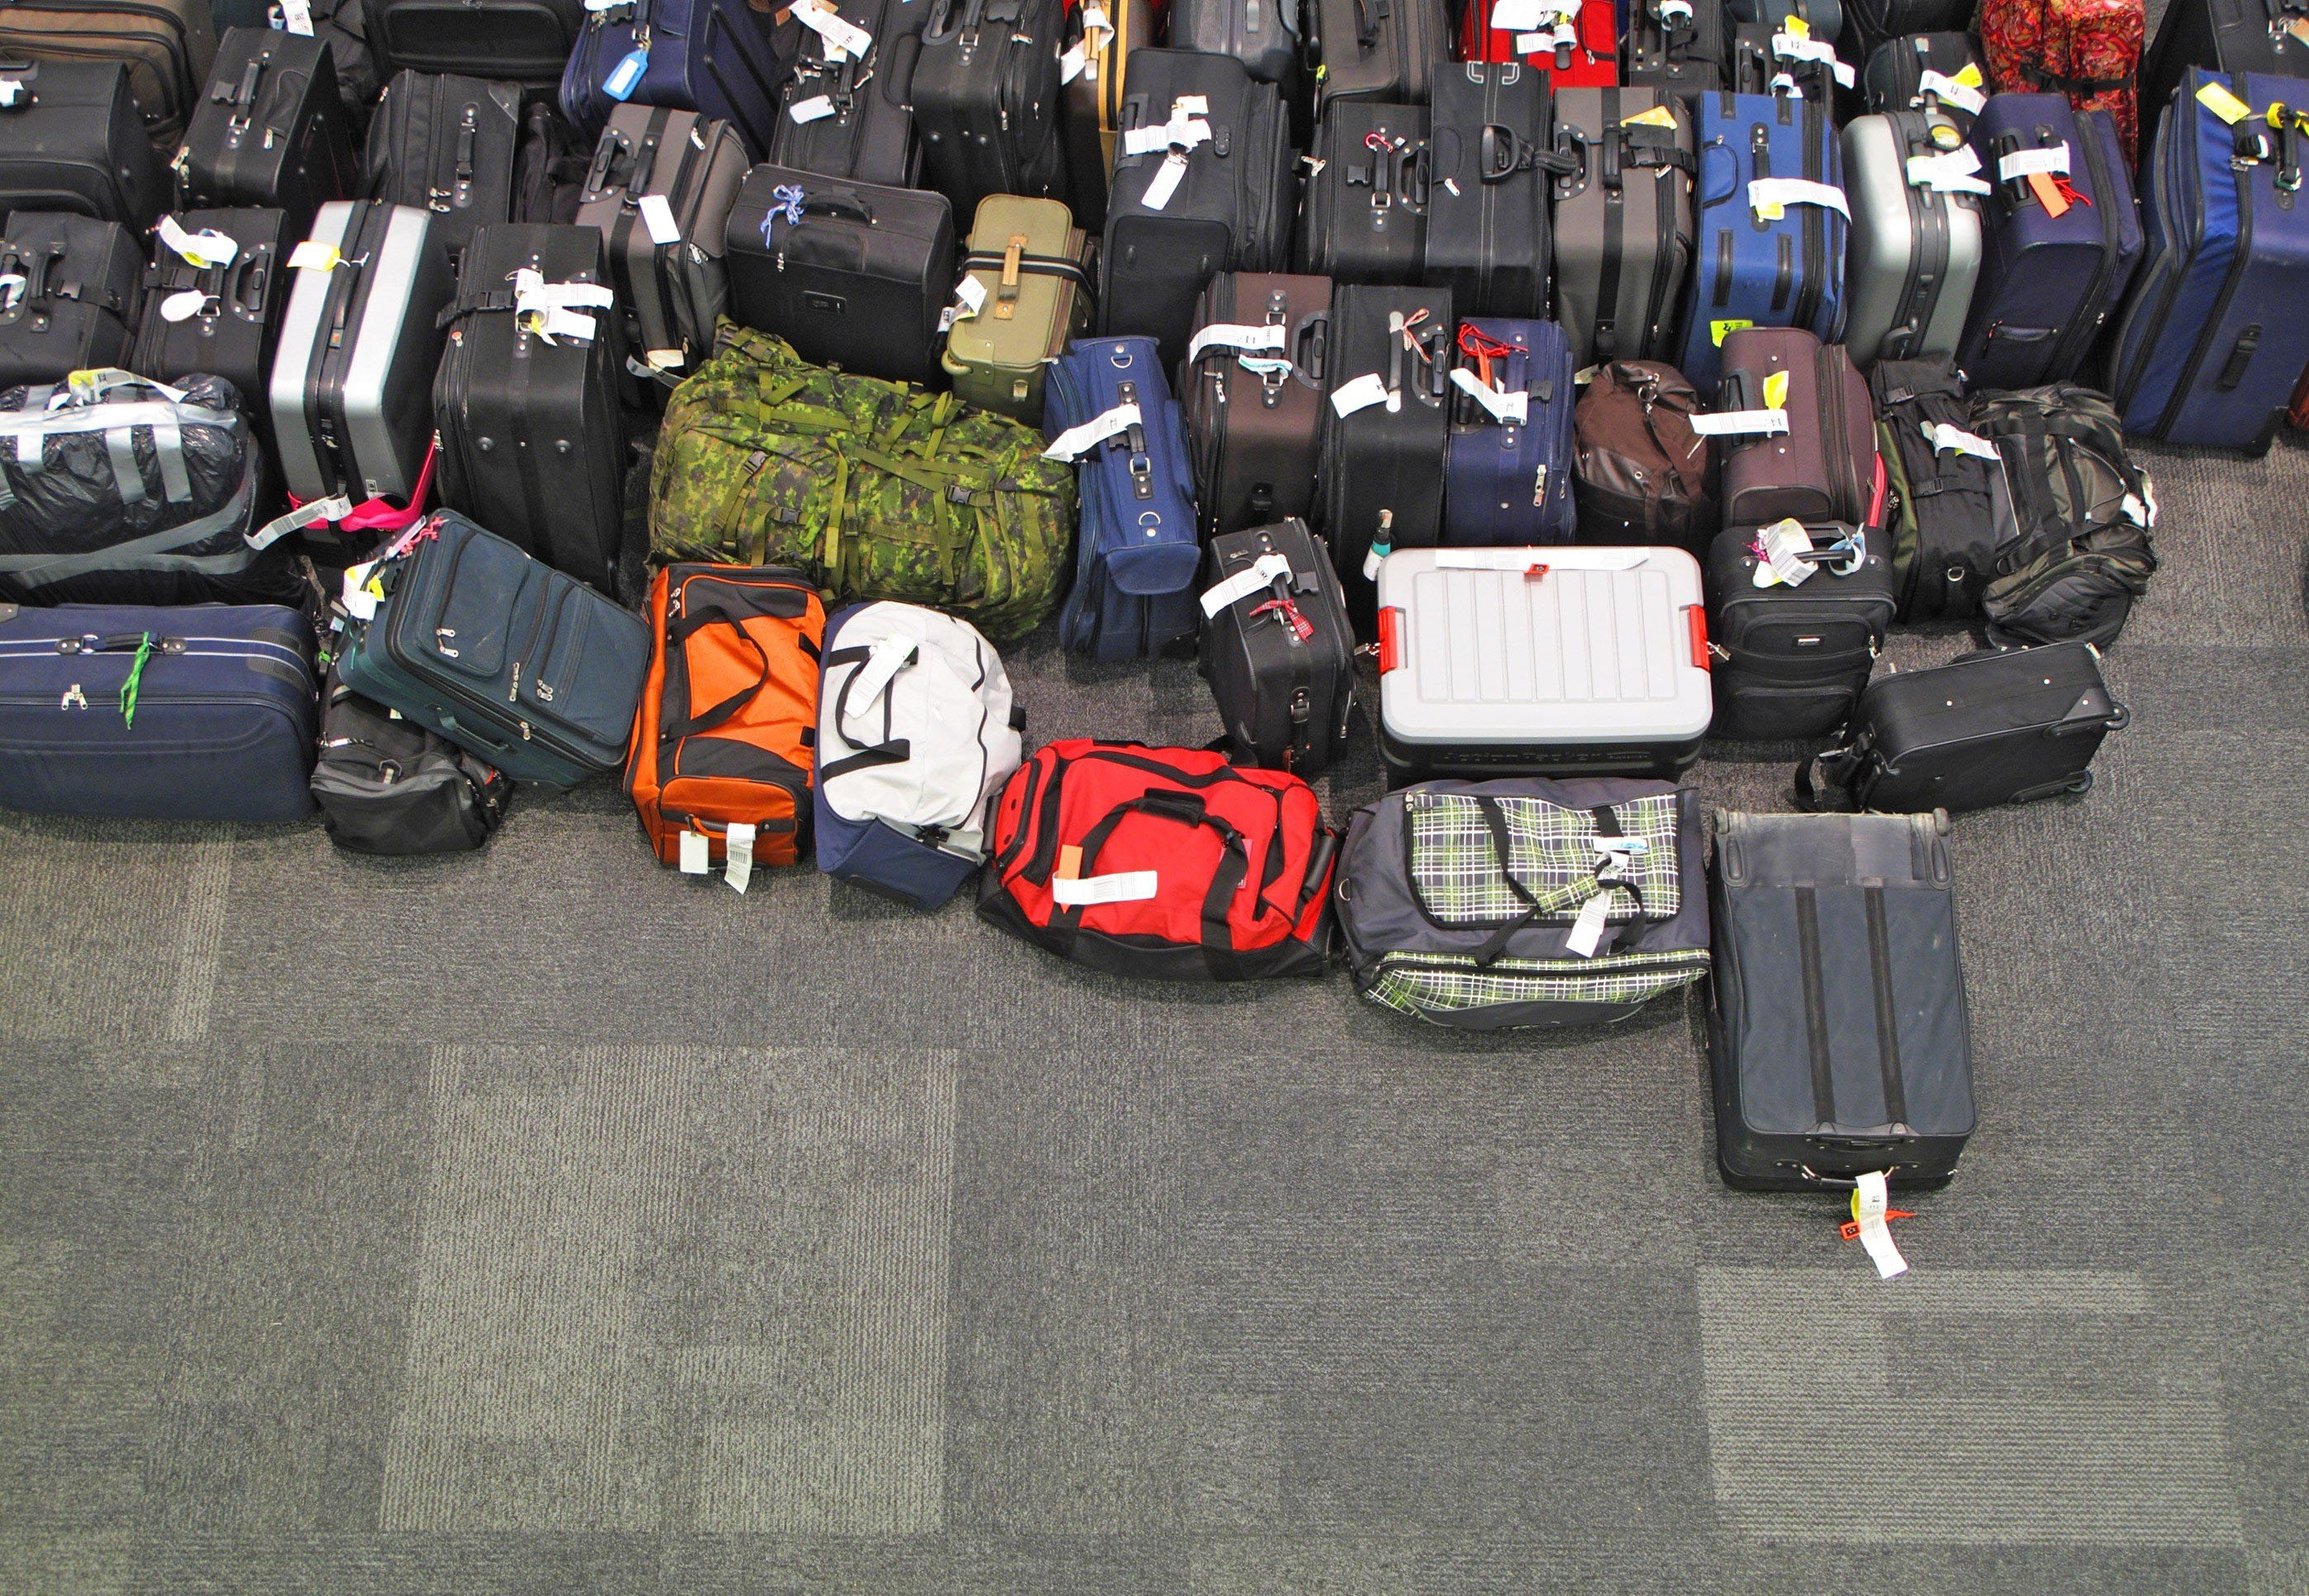backpack: (646, 326, 1083, 637), (1325, 772, 1737, 1059), (981, 733, 1348, 1000), (619, 558, 851, 882), (804, 603, 1039, 916), (1977, 391, 2177, 661), (1858, 377, 2000, 645)
luggage: (1705, 794, 1983, 1224), (1351, 535, 1718, 784), (339, 526, 647, 800), (0, 591, 328, 833), (2114, 74, 2309, 474), (433, 219, 633, 552), (254, 195, 453, 517), (1023, 340, 1218, 668), (1086, 44, 1300, 331), (712, 151, 956, 391), (1955, 86, 2153, 381), (1837, 644, 2132, 826), (568, 102, 753, 356), (1677, 88, 1856, 346), (1541, 77, 1700, 363), (1195, 524, 1372, 772), (1832, 103, 1993, 367), (1176, 268, 1340, 509), (1412, 46, 1558, 316), (1707, 317, 1888, 526), (361, 58, 561, 246), (1309, 284, 1458, 528), (1433, 310, 1584, 544), (137, 184, 274, 435), (153, 21, 335, 207), (937, 182, 1088, 400), (1290, 86, 1430, 288)
